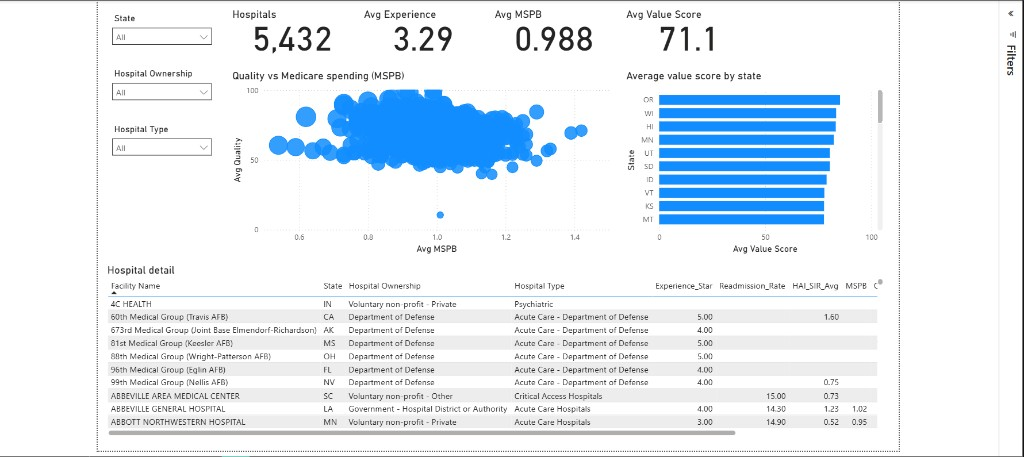

This screenshot's page, from the dashboard's own definition file:
{"tool":"powerbi","page":{"name":"Scorecard","canvas":[1280,720],"ordinal":0},"visuals":[{"type":"card","title":"Hospitals","fields":{"Values":["hospital_value.Hospital Count"]},"box":[210,12,200,88],"z":1000},{"type":"card","title":"Avg Experience","fields":{"Values":["hospital_value.Avg Experience"]},"box":[420,12,200,88],"z":2000},{"type":"card","title":"Avg MSPB","fields":{"Values":["hospital_value.Avg MSPB"]},"box":[630,12,200,88],"z":3000},{"type":"card","title":"Avg Value Score","fields":{"Values":["hospital_value.Avg Value Score"]},"box":[840,12,210,88],"z":4000},{"type":"slicer","fields":{"Values":["hospital_value.State"]},"box":[10,12,185,80],"z":5000},{"type":"slicer","fields":{"Values":["hospital_value.Hospital Ownership"]},"box":[10,100,185,80],"z":6000},{"type":"slicer","fields":{"Values":["hospital_value.Hospital Type"]},"box":[10,188,185,80],"z":7000},{"type":"scatterChart","title":"Quality vs Medicare spending (MSPB)","fields":{"Category":["hospital_value.Facility Name"],"Size":["hospital_value.Avg Value Score"],"X":["hospital_value.Avg MSPB"],"Y":["hospital_value.Avg Quality"]},"box":[210,110,620,300],"z":8000},{"type":"clusteredBarChart","title":"Average value score by state","fields":{"Category":["hospital_value.State"],"Y":["hospital_value.Avg Value Score"]},"box":[840,110,420,300],"z":9000},{"type":"tableEx","title":"Hospital detail","fields":{"Values":["hospital_value.Facility Name","hospital_value.State","hospital_value.Hospital Ownership","hospital_value.Hospital Type","hospital_value.Experience_Star","hospital_value.Readmission_Rate","hospital_value.HAI_SIR_Avg","hospital_value.MSPB","hospital_value.Quality","hospital_value.Value_Score","hospital_value.Focus_Flag"]},"box":[10,420,1250,280],"z":10000}]}

Visuals, with their boxes on the page's 1280x720 design canvas (x1, y1, x2, y2). These are canvas units, not pixel positions in the 1024x457 screenshot, which may show the page scaled, cropped or inside an application window:
"Hospitals" card: (left=210, top=12, right=410, bottom=100)
"Avg Experience" card: (left=420, top=12, right=620, bottom=100)
"Avg MSPB" card: (left=630, top=12, right=830, bottom=100)
"Avg Value Score" card: (left=840, top=12, right=1050, bottom=100)
slicer - hospital_value.State: (left=10, top=12, right=195, bottom=92)
slicer - hospital_value.Hospital Ownership: (left=10, top=100, right=195, bottom=180)
slicer - hospital_value.Hospital Type: (left=10, top=188, right=195, bottom=268)
"Quality vs Medicare spending (MSPB)" scatterChart: (left=210, top=110, right=830, bottom=410)
"Average value score by state" clusteredBarChart: (left=840, top=110, right=1260, bottom=410)
"Hospital detail" tableEx: (left=10, top=420, right=1260, bottom=700)
